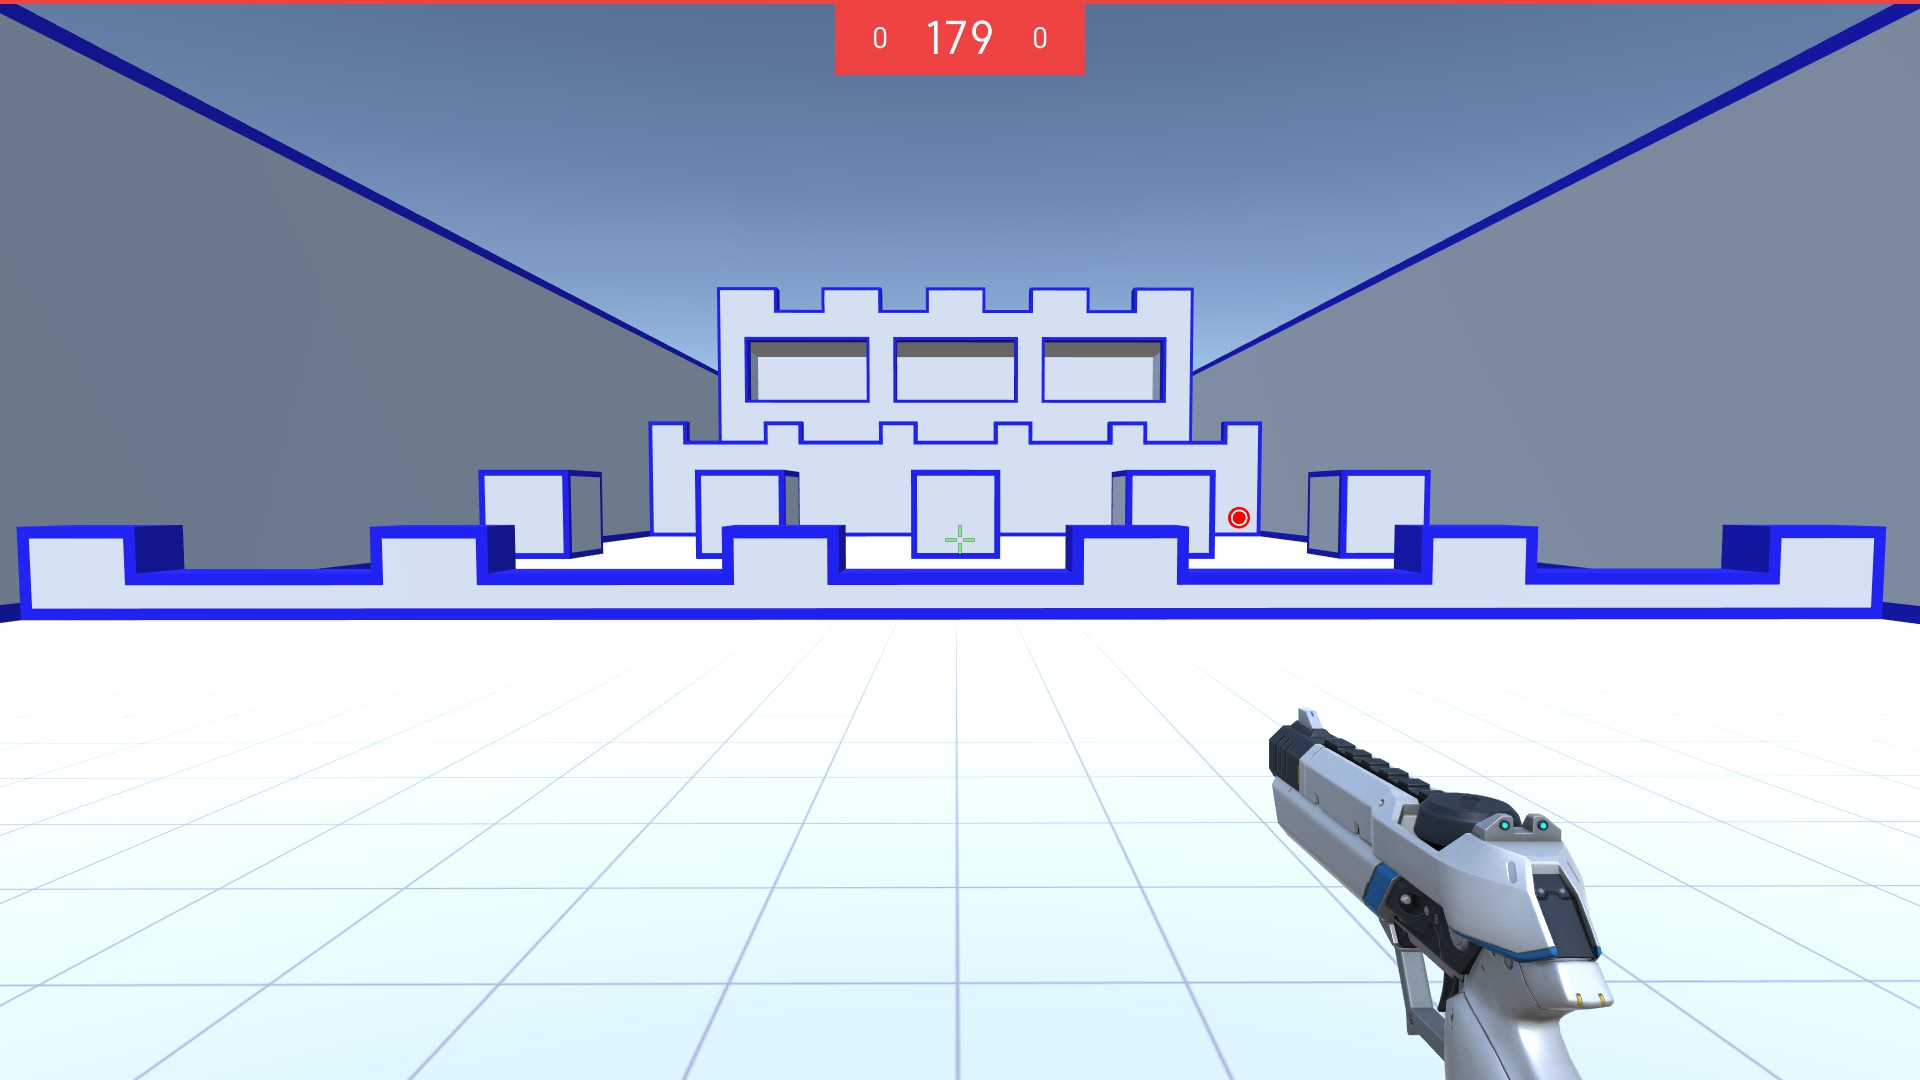target: (1230, 506, 1249, 527)
